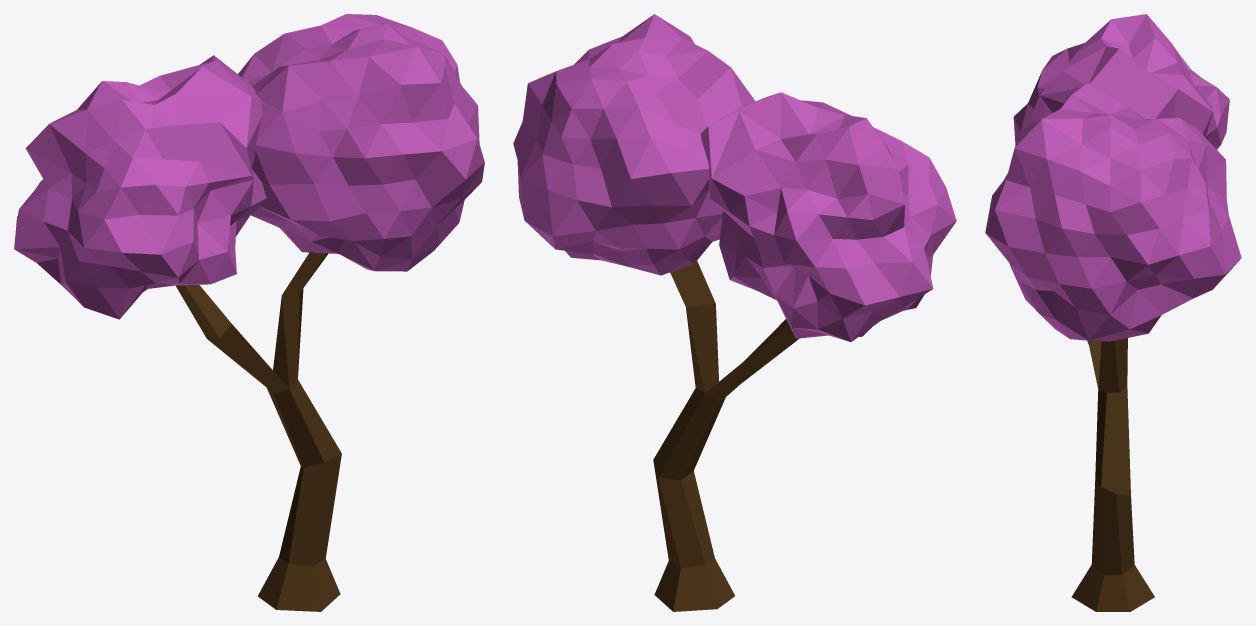
File: cherryTree.obj
The picture shows the model from 3 angles, left to right: view 1: azimuth 30°, elevation 25°; view 2: azimuth 150°, elevation 25°; view 3: azimuth 270°, elevation 25°; orthographic projection. The views are drawn at different scales.
Parts seen in each view (by area): view 1: crown1_Icosphere.001, crown2_Icosphere.002, stump_Cube; view 2: crown2_Icosphere.002, crown1_Icosphere.001, stump_Cube; view 3: crown1_Icosphere.001, crown2_Icosphere.002, stump_Cube.
Part boxes in pixels (x1,y1,x2,y2): crown1_Icosphere.001: [238, 14, 484, 271]; crown2_Icosphere.002: [14, 55, 266, 319]; stump_Cube: [176, 251, 341, 611]; crown2_Icosphere.002: [700, 92, 956, 341]; crown1_Icosphere.001: [513, 14, 754, 275]; stump_Cube: [653, 261, 799, 611]; crown1_Icosphere.001: [985, 83, 1241, 341]; crown2_Icosphere.002: [1013, 14, 1229, 149]; stump_Cube: [1071, 338, 1154, 611].
Size of the model in its own units: 16.61 by 20.28 by 9.16.
